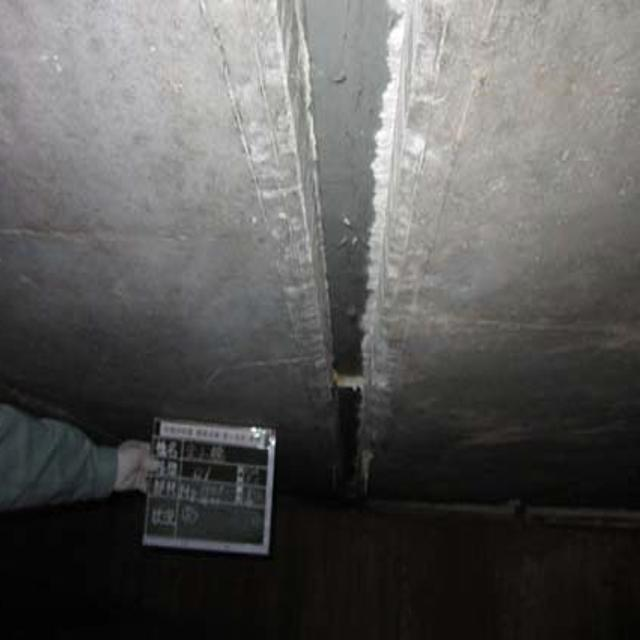freelime: (350, 27, 413, 489)
